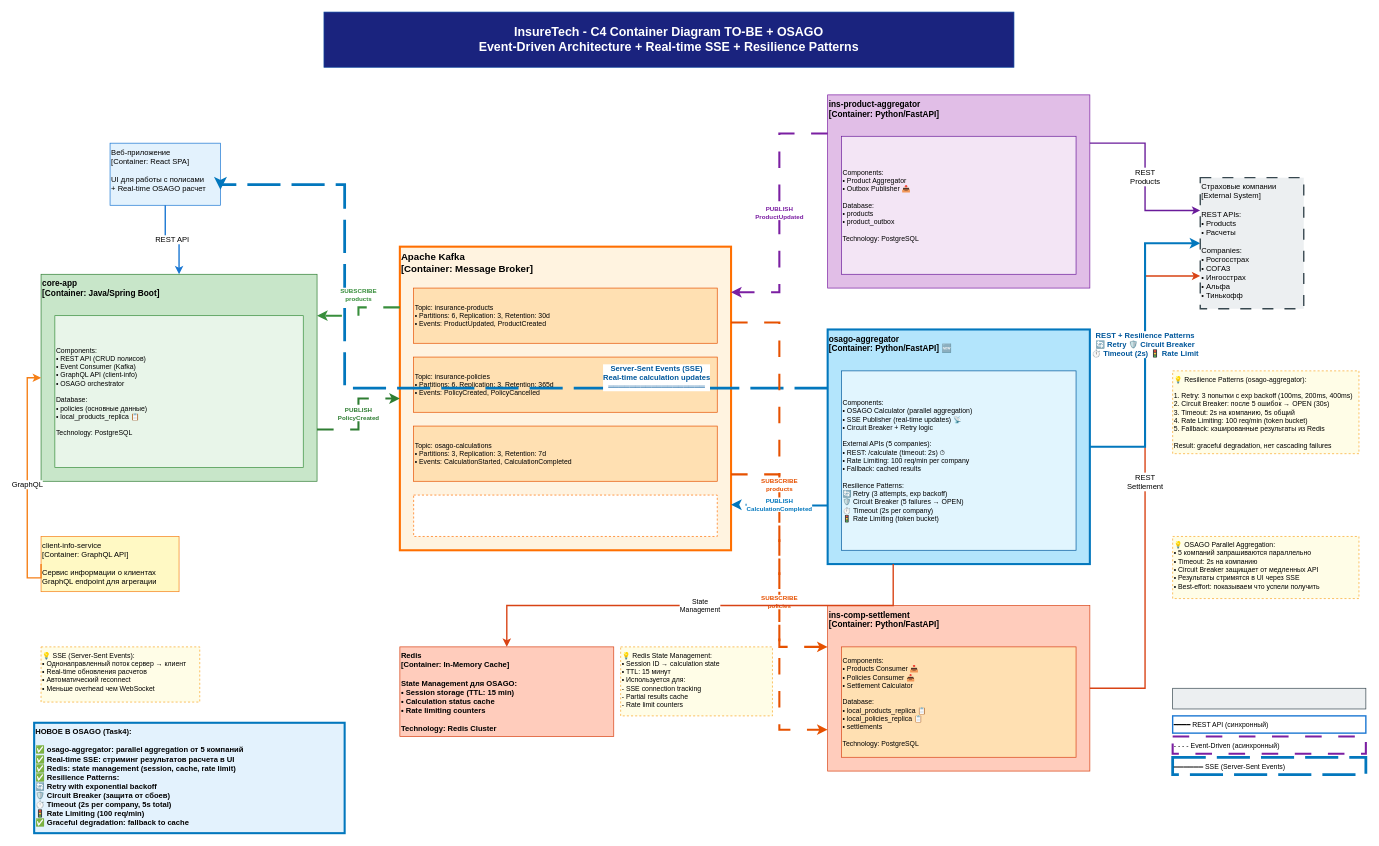
Image size: 1379x846. Some labels were removed from this diagram. The shapes that lost their labels are listed below. From the top down, each one's centre as x and y in pixels, then its label:
At (565,515): "Event Streaming Platform Гарантированная доставка, партиционирование, audit log".
At (1269,698): "ЛЕГЕНДА".
